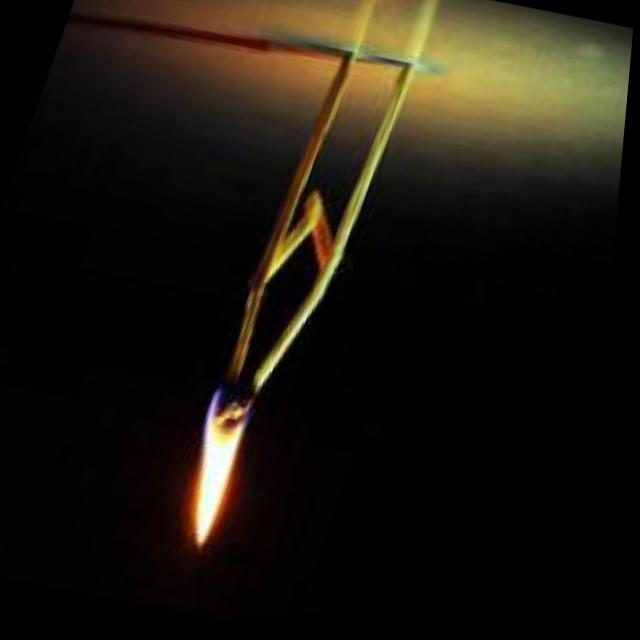Fire: (171, 391, 265, 554)
